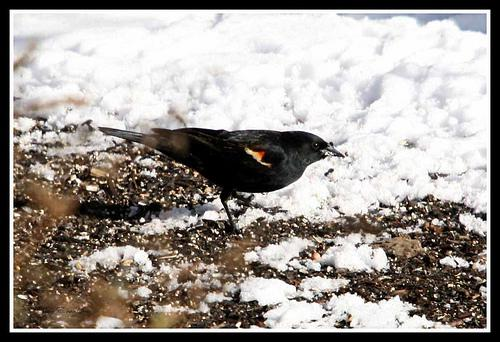010.Red_winged_Blackbird: (94, 124, 346, 241)
